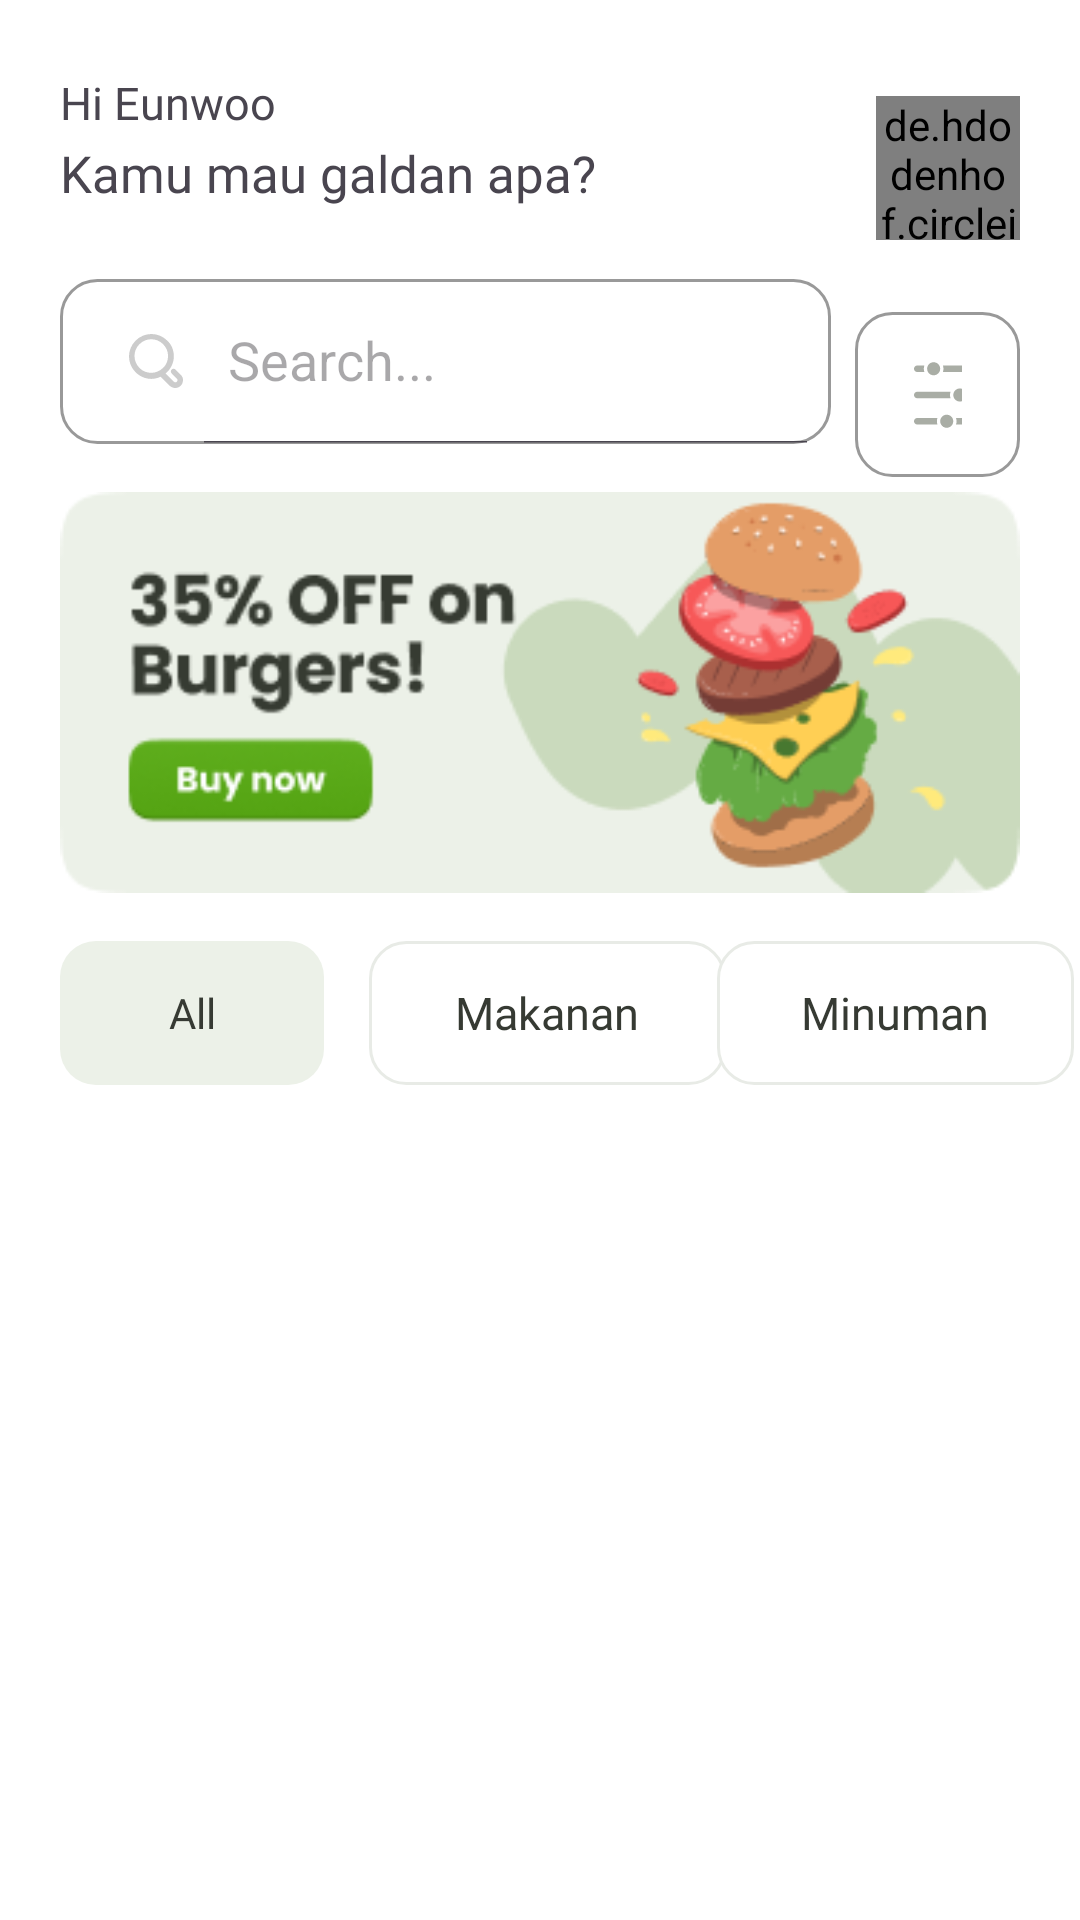

Named icons in this screenshot (1080px x 1920px) and their bounding boxes, (x1, y1, x2, y2):
filter: (855, 312, 1020, 477)
